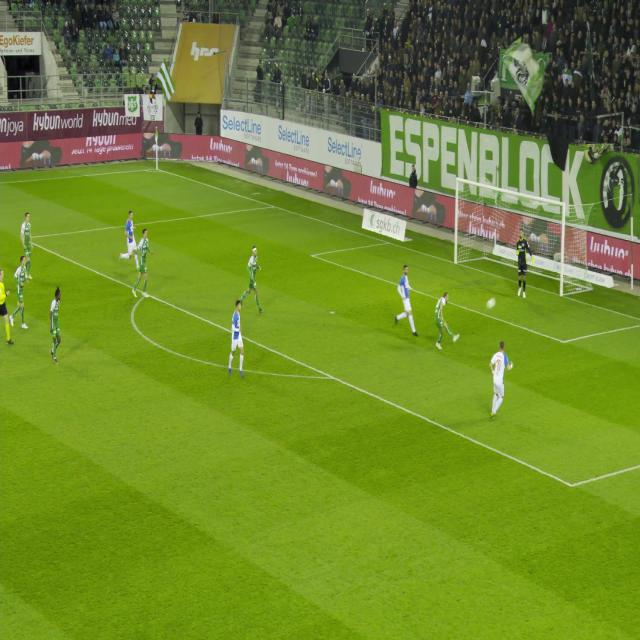Ball: (482, 293, 500, 316)
Player: (481, 338, 519, 424), (238, 235, 268, 315), (431, 282, 462, 356), (394, 258, 421, 339), (223, 298, 249, 382), (131, 217, 155, 302), (44, 283, 68, 367), (512, 229, 538, 305), (11, 253, 32, 334), (120, 198, 140, 274), (18, 207, 38, 282)
Referee: (0, 267, 13, 349)
